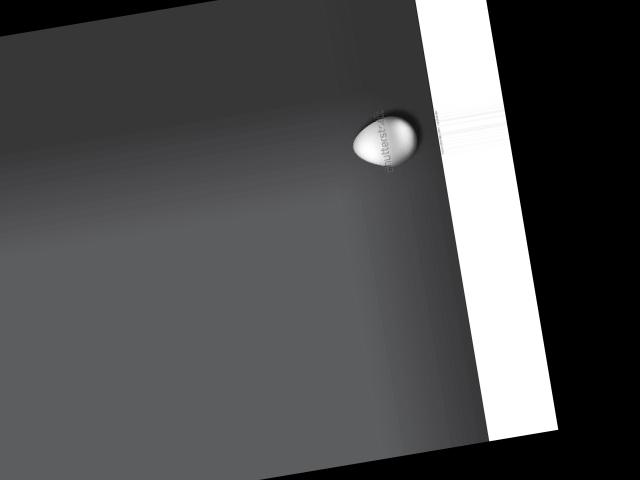egg: (348, 112, 420, 172)
